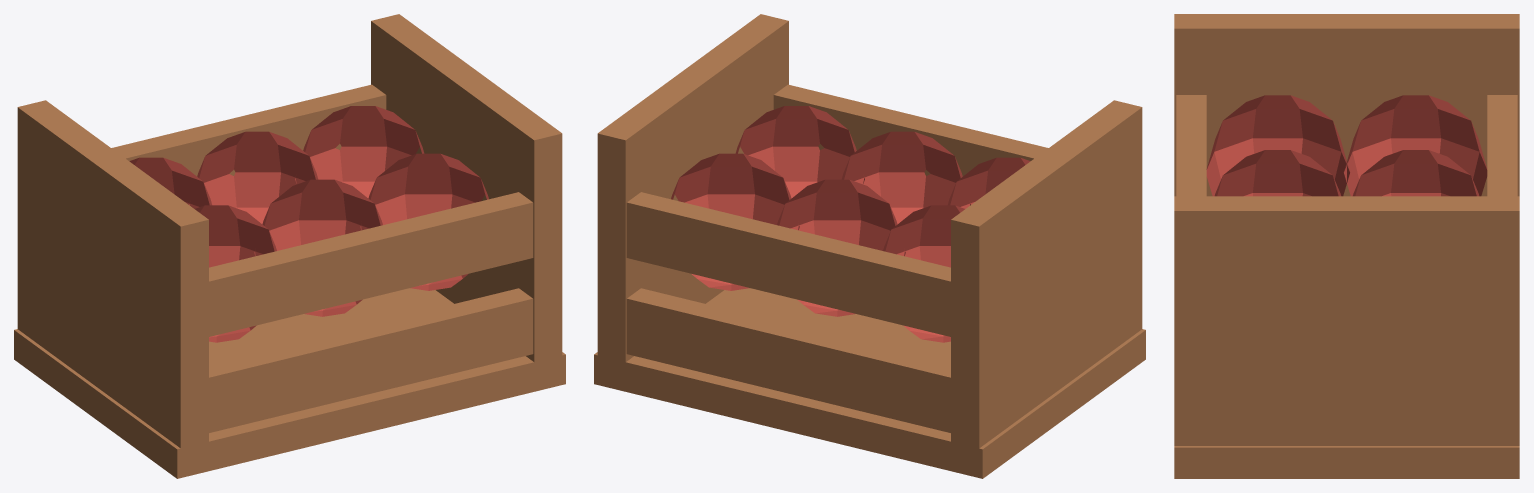
The model's file is turning-seasons-harvest-crate-0274cb4f__2140.glb.
3 views of the same model, side by side, from view 1: azimuth 30°, elevation 25°; view 2: azimuth 150°, elevation 25°; view 3: azimuth 270°, elevation 25° (orthographic). The views are drawn at different scales.
Parts seen in each view (by area): view 1: harvest-crate; view 2: harvest-crate; view 3: harvest-crate.
Part boxes in pixels (x1,y1,x2,y2): harvest-crate: (14, 14, 565, 478); harvest-crate: (594, 14, 1145, 478); harvest-crate: (1174, 14, 1519, 478).
Size of the model in its own units: 0.55 by 0.34 by 0.4.
